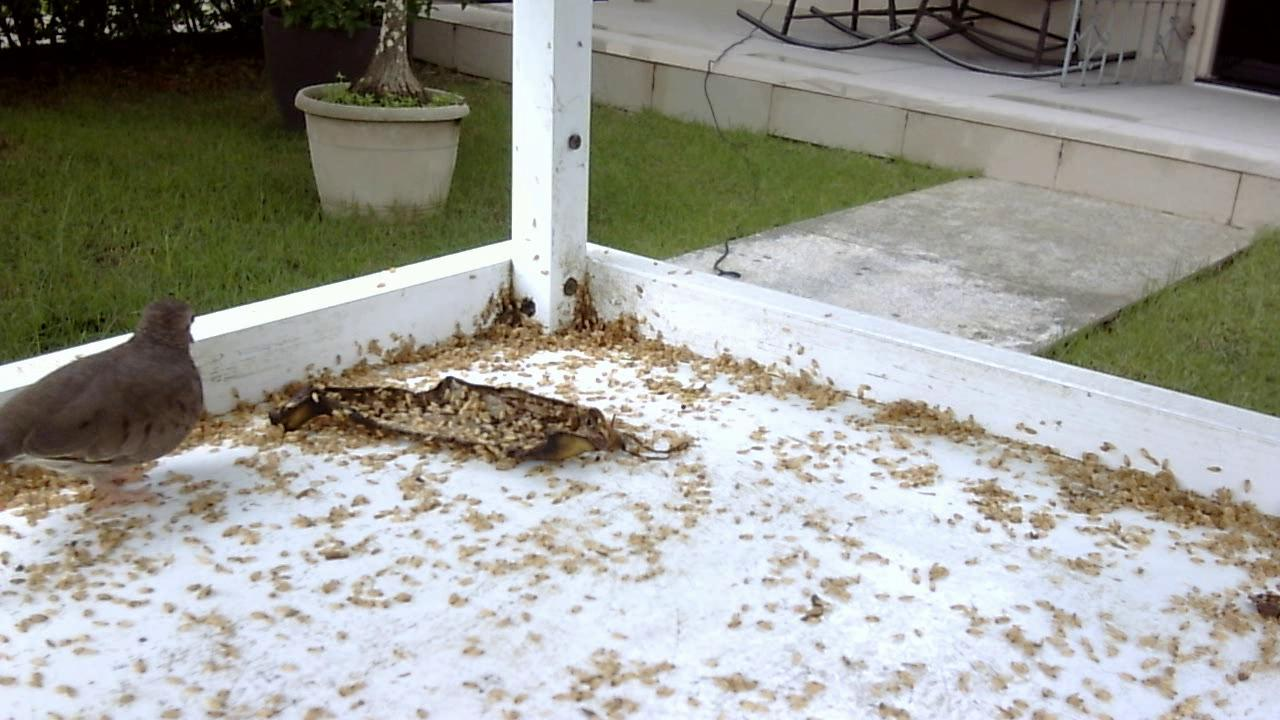rolinha: (1, 297, 219, 519)
